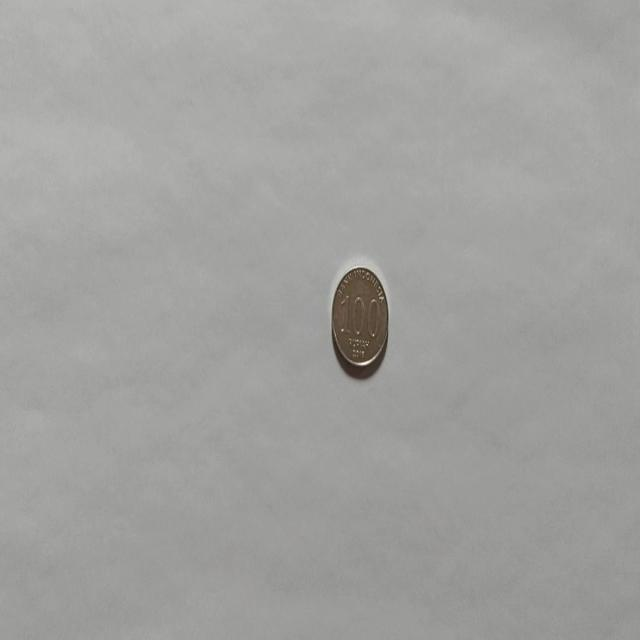seratus rupiah: (330, 264, 389, 372)
